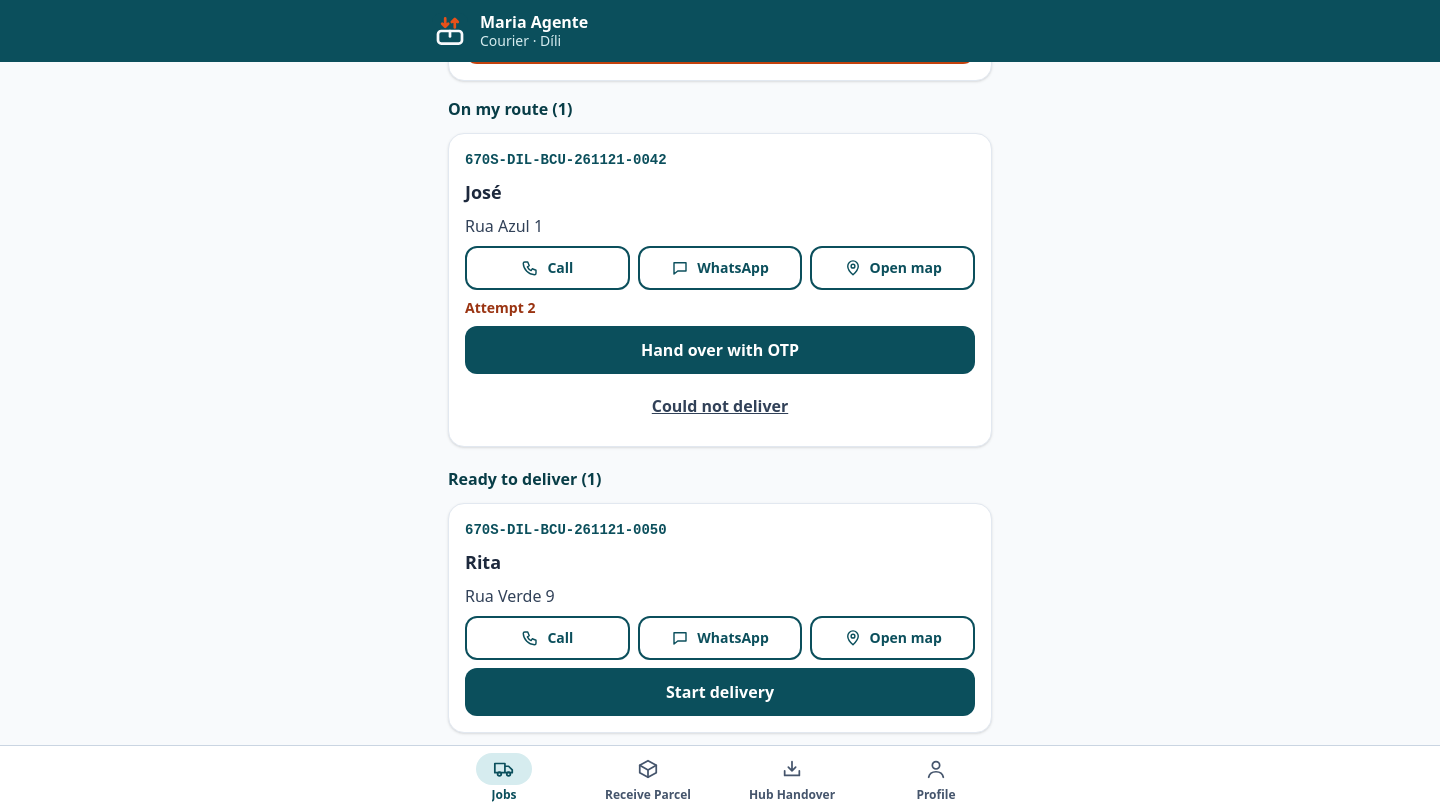
Test: courier jobs › records a failed attempt with notes, and tells the courier when the second failure sends the parcel back to the kiosk
(page scrolled)
Expected: the text "Attempt 2" is shown, left=465, top=298, right=535, bottom=316
Click the button "Could not deliver".
click(720, 406)  # box left=465, top=382, right=975, bottom=430
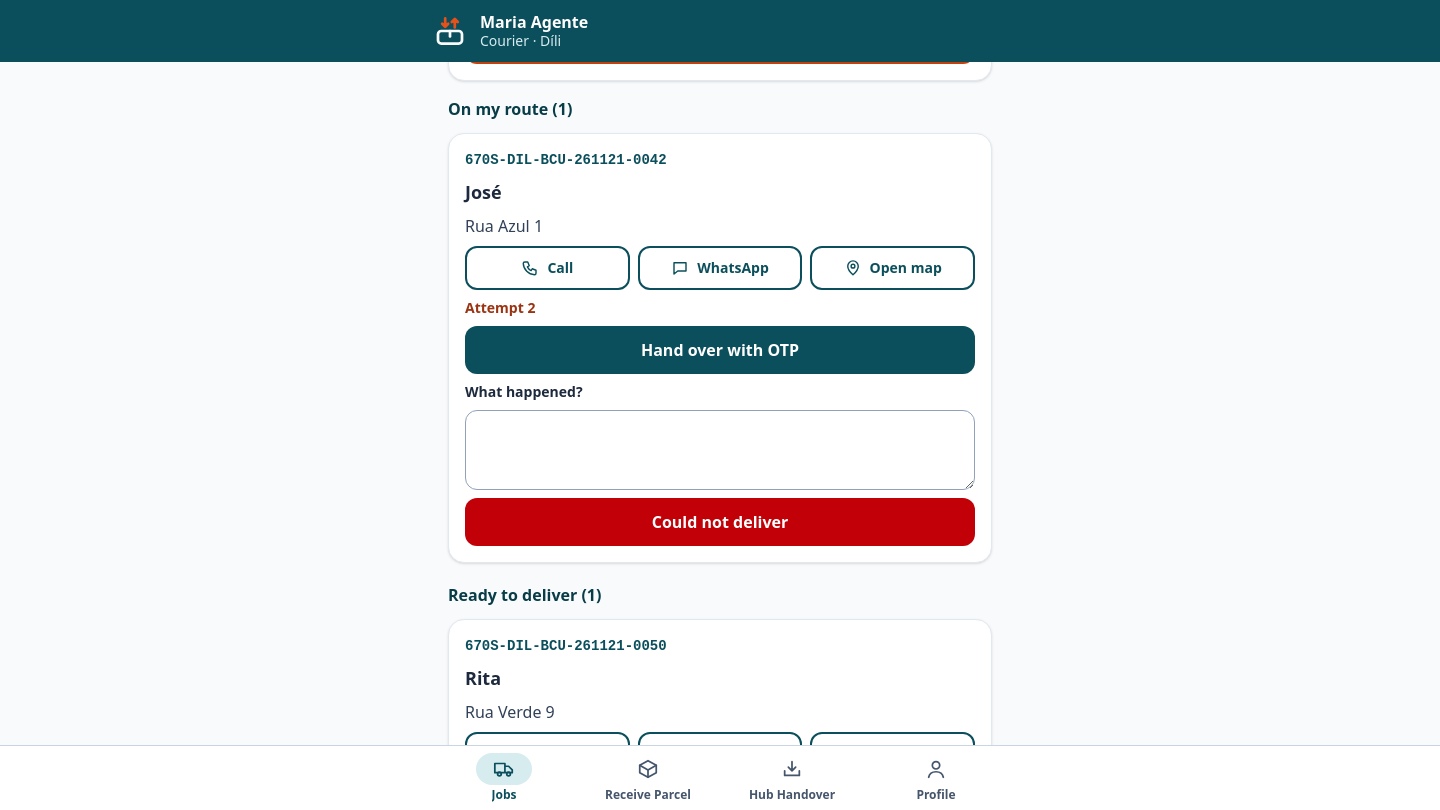
Type "Nobody home" into the text box labelled "What happened?".
click(720, 450); type("Nobody home")  # box left=465, top=410, right=975, bottom=490
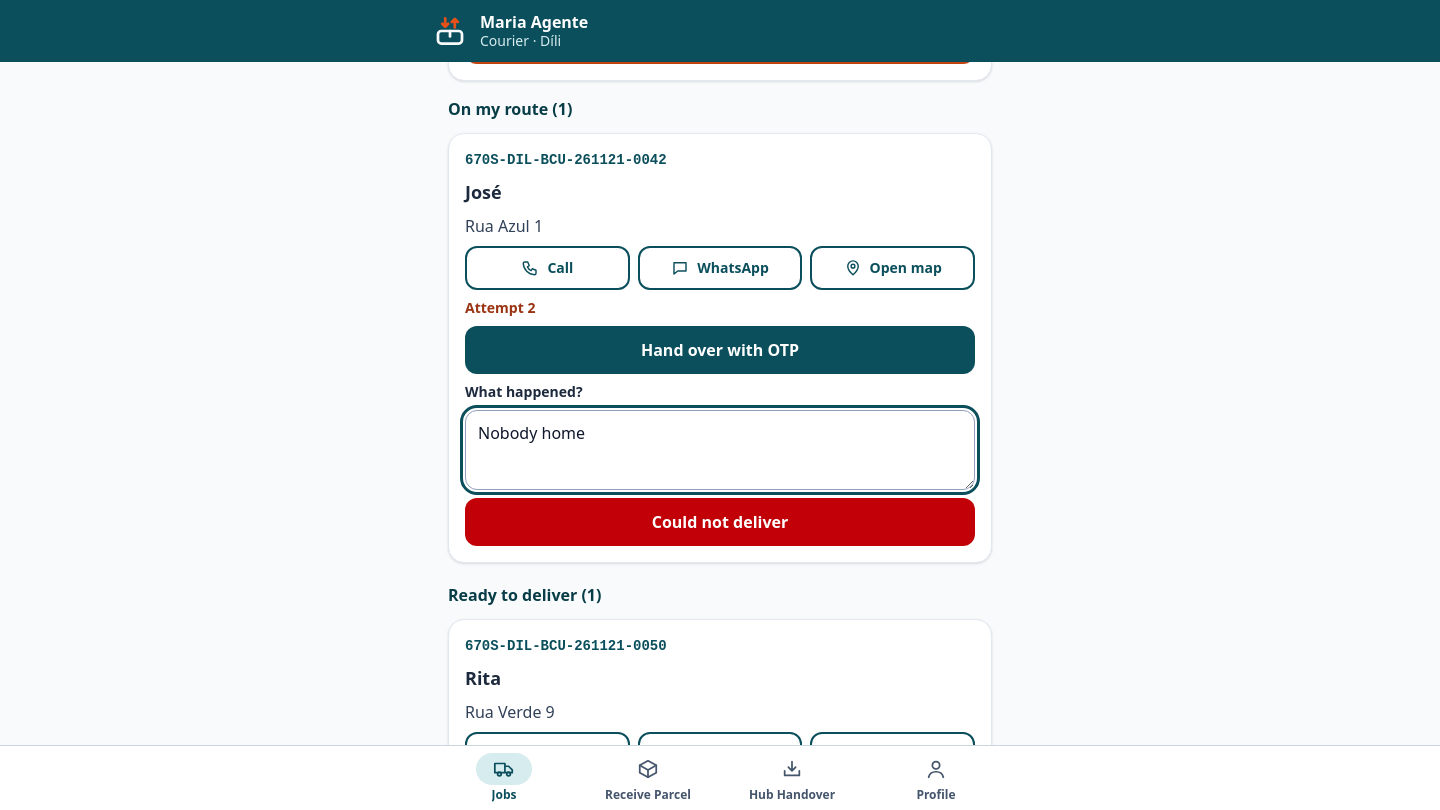
Click the button "Could not deliver".
click(720, 522)  # box left=465, top=498, right=975, bottom=546
(page scrolled)
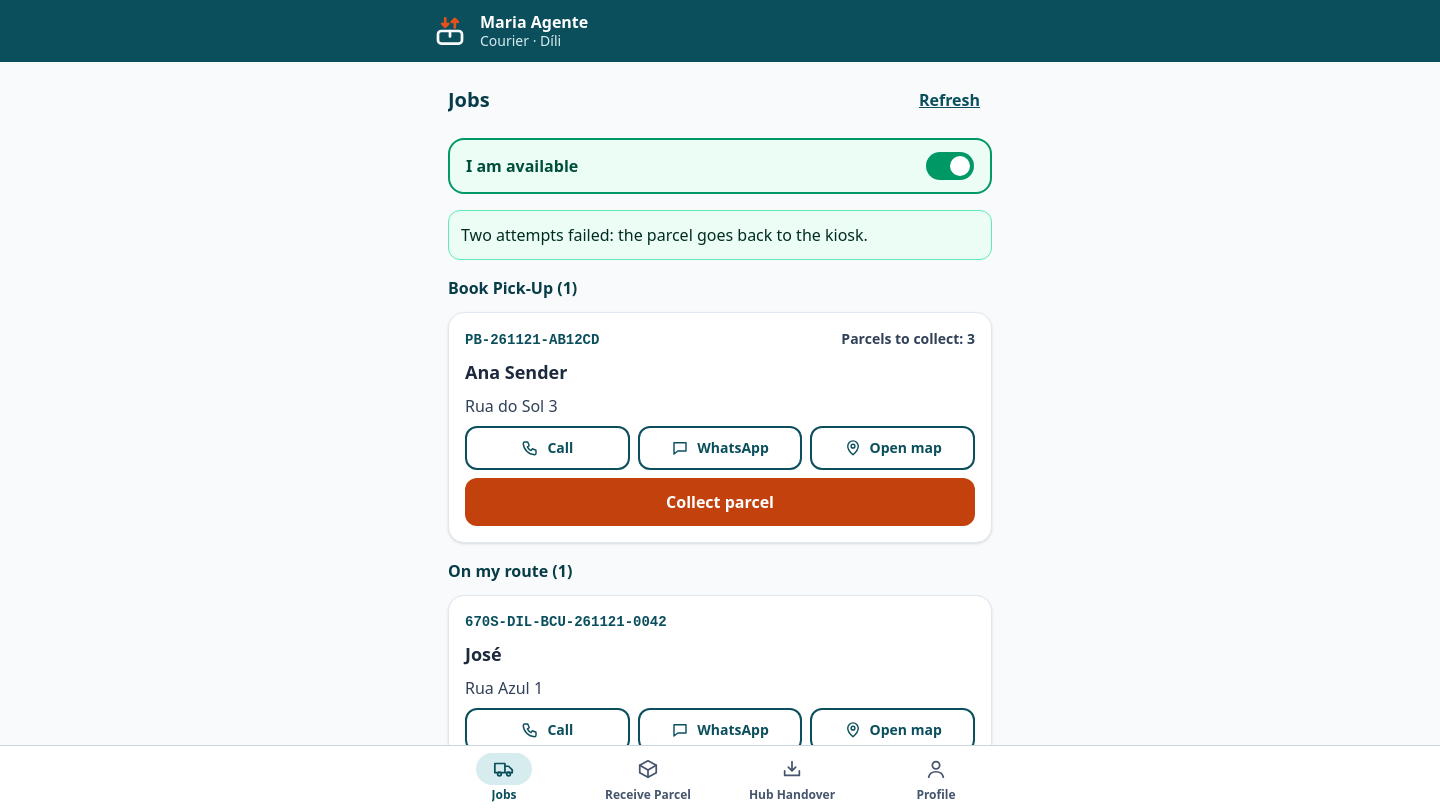
Now the text "Two attempts failed: the parcel goes back to the kiosk." is shown, box left=448, top=210, right=992, bottom=260
